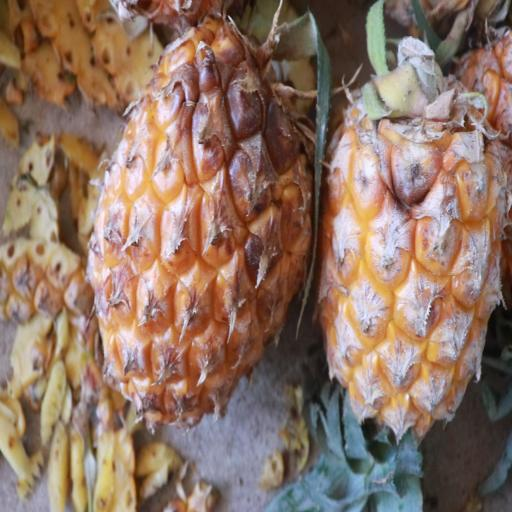Pineapple - v8 v1: (82, 7, 318, 432), (316, 32, 512, 493)
